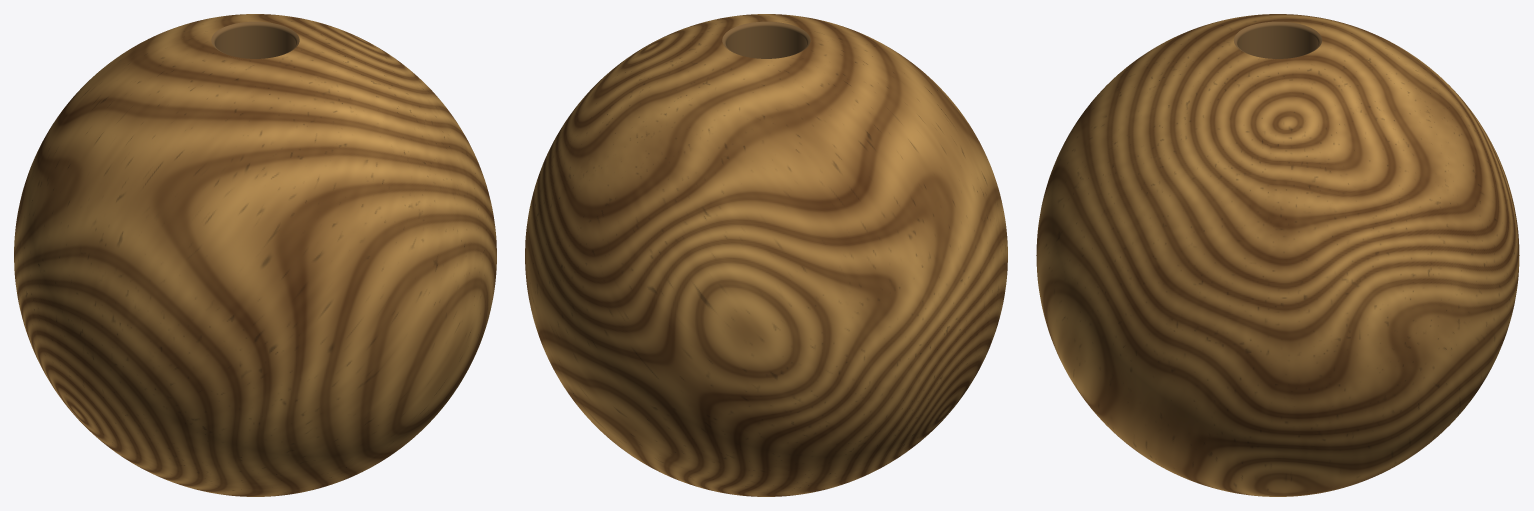
File: wood-hainan-huanghuali-6mm.glb
3 renders of one model, left to right at view 1: azimuth 30°, elevation 25°; view 2: azimuth 150°, elevation 25°; view 3: azimuth 270°, elevation 25°, orthographic.
Parts seen in each view (by area): view 1: hainan-huanghuali; view 2: hainan-huanghuali; view 3: hainan-huanghuali.
Boxes of the visible parts, x1,y1,x2,y2 form: hainan-huanghuali: (14,14,496,496); hainan-huanghuali: (525,14,1007,496); hainan-huanghuali: (1036,14,1519,496).
Bounding box in the file's own units: 0.006 × 0.0059 × 0.006.
Materials: 2 (1 with a texture image).
